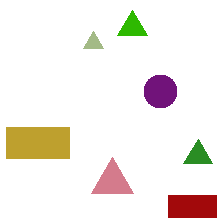circle: (144, 75, 176, 107)
rectangle: (6, 127, 69, 158), (168, 195, 216, 217)
triangle: (91, 157, 133, 193), (117, 10, 147, 35), (183, 139, 212, 163), (83, 31, 103, 48)
